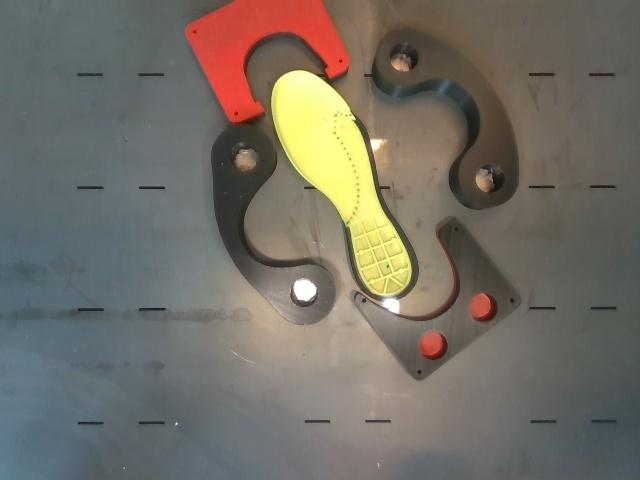shoes: (272, 71, 418, 300)
